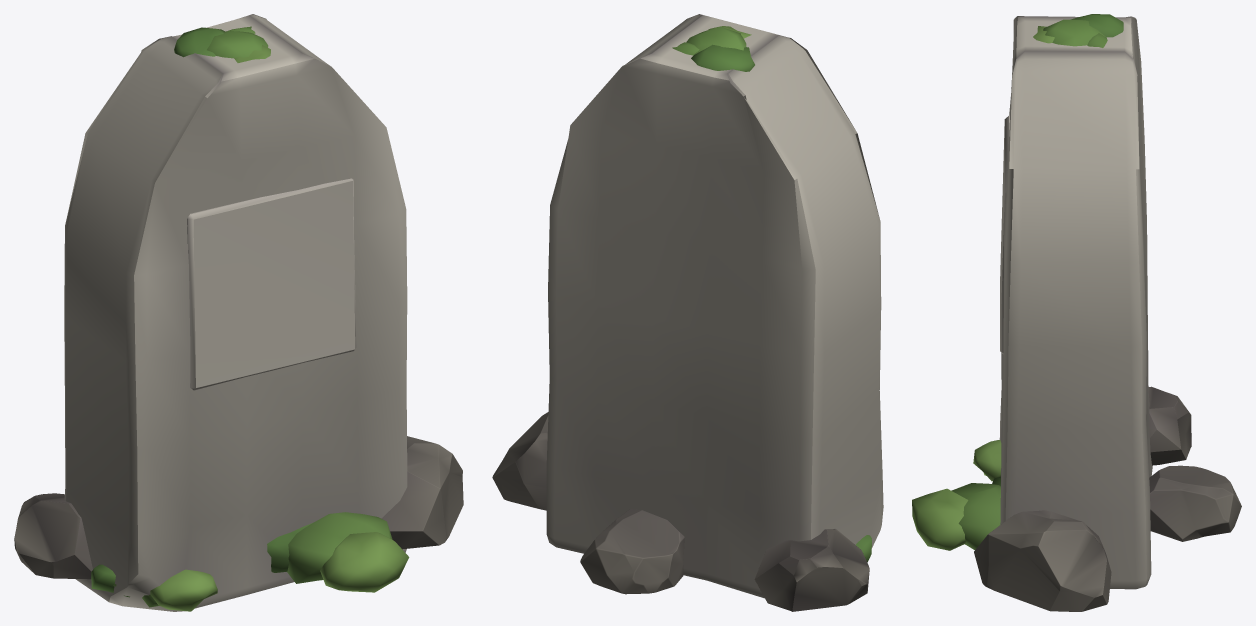
Rendered from pr_milestone.glb.
The picture shows the model from 3 angles, left to right: view 1: azimuth 30°, elevation 25°; view 2: azimuth 150°, elevation 25°; view 3: azimuth 270°, elevation 25°; orthographic projection. The views are drawn at different scales.
Parts seen in each view (by area): view 1: PR_milestone__body; view 2: PR_milestone__body; view 3: PR_milestone__body.
Boxes of the visible parts, bbox=[...] form: PR_milestone__body: bbox=[14, 14, 463, 611]; PR_milestone__body: bbox=[492, 14, 883, 611]; PR_milestone__body: bbox=[912, 14, 1241, 611].
Bounding box in the file's own units: 0.8769 × 1.1 × 0.6494.
